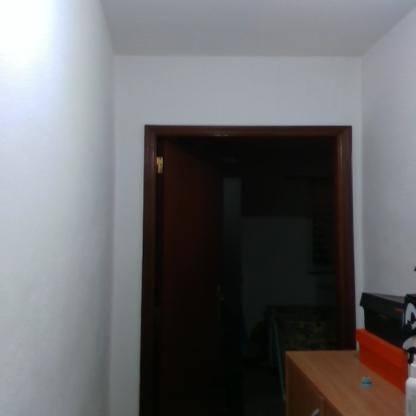open: (119, 97, 369, 407)
